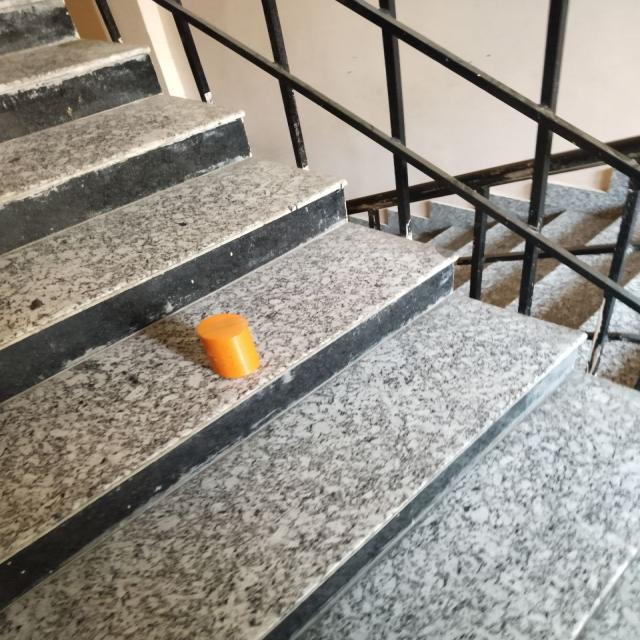Cylinder: (194, 312, 260, 378)
